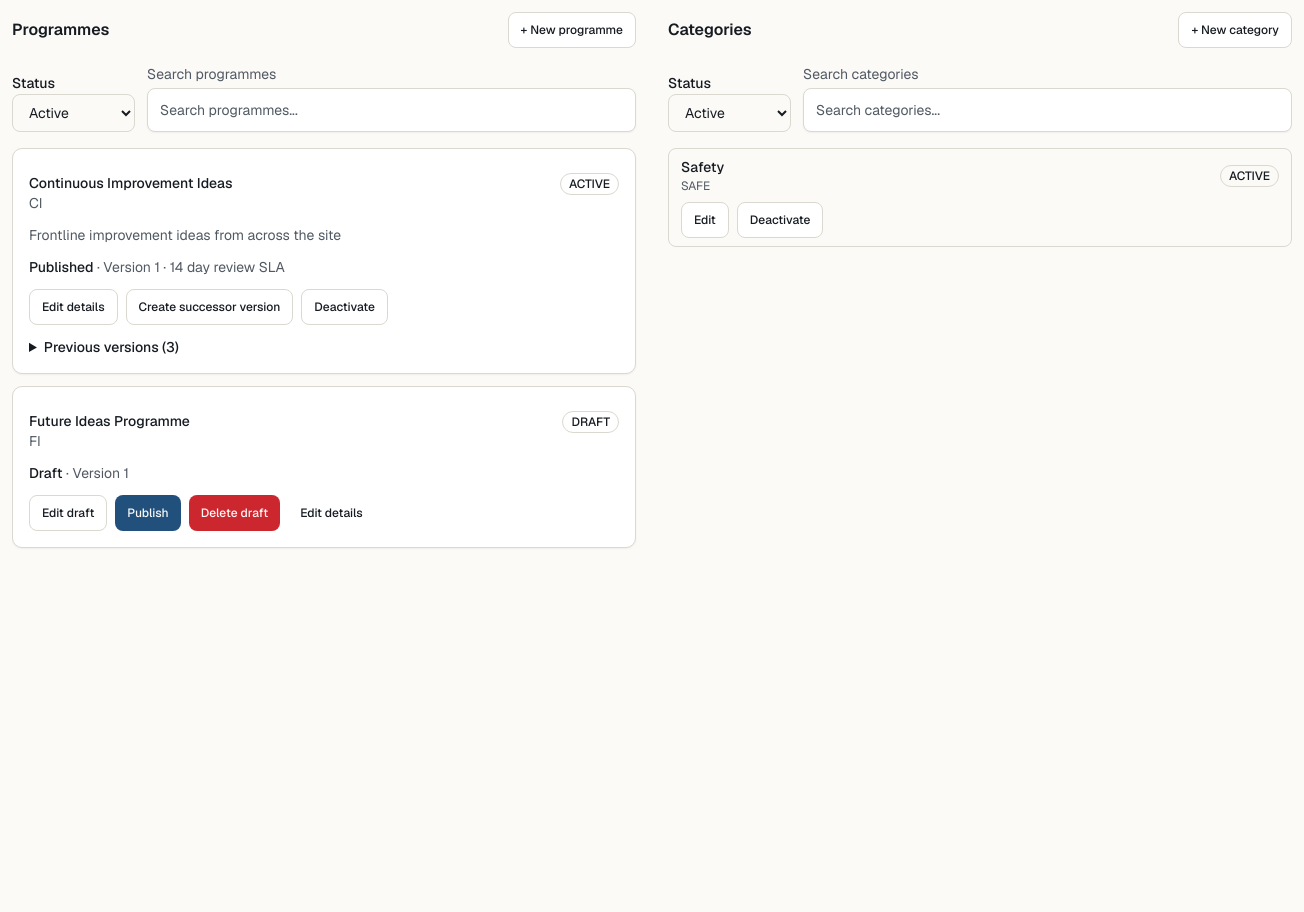
Test: ProgrammeManagement administration UX › auto-generates programme code preview without manual code field
Click the button with test id "new-programme-button" at (572, 30), box [508,12,636,48]
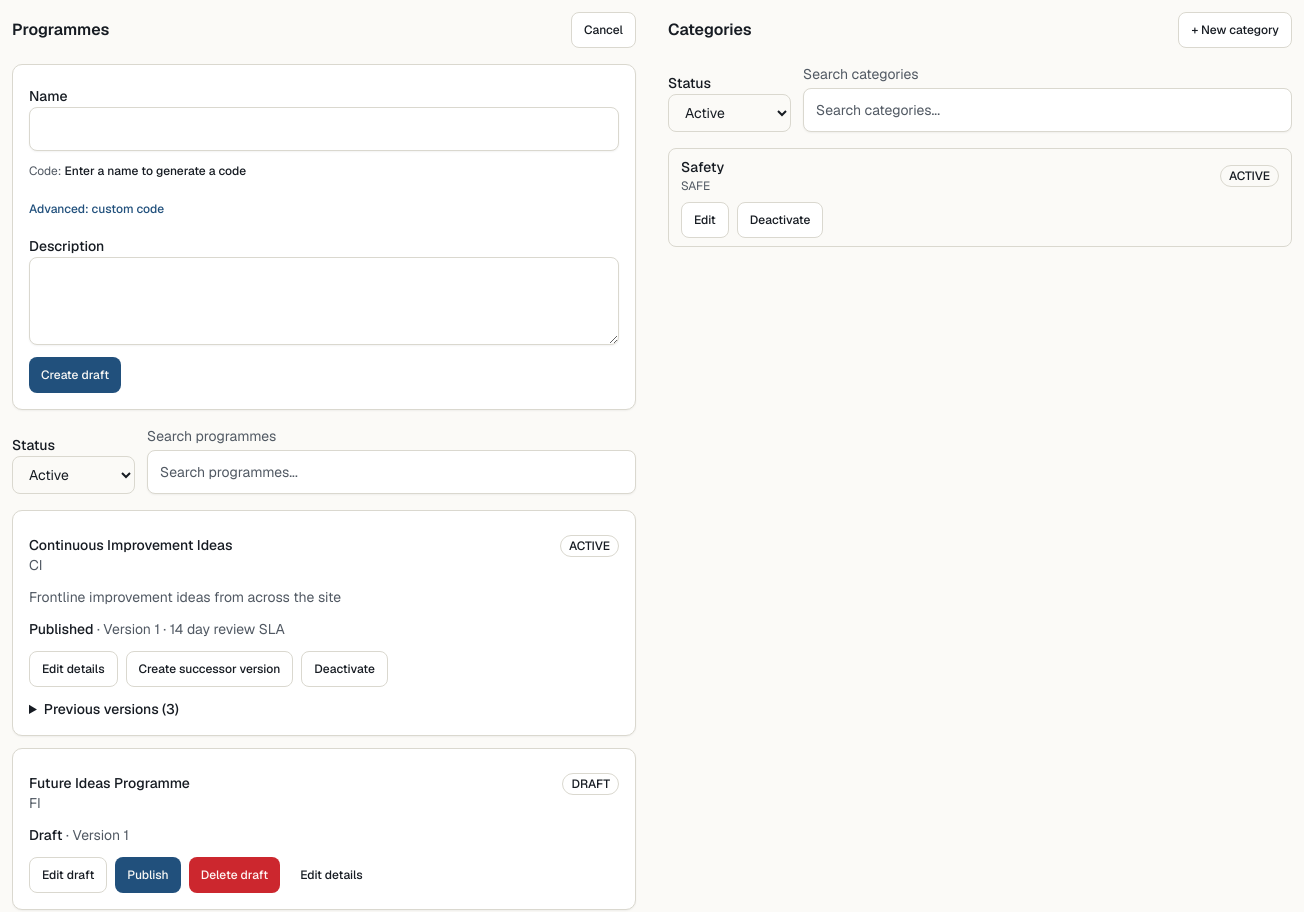
Type "CI" into the field labelled "Name" at (324, 129), box [29,107,619,151]
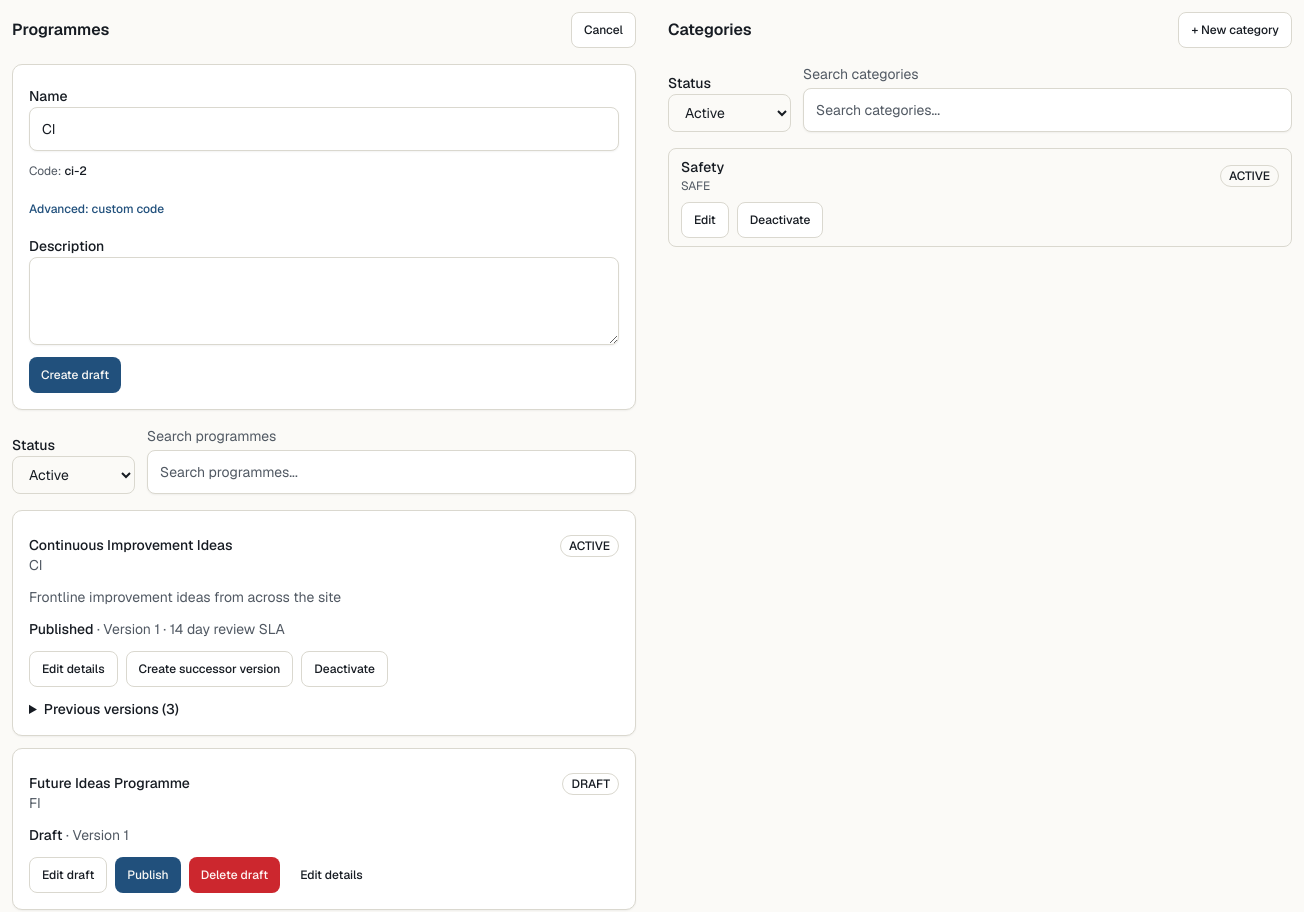
Check: the element with test id "programme-auto-code-preview" shows "ci-2", box [64,163,87,179]
